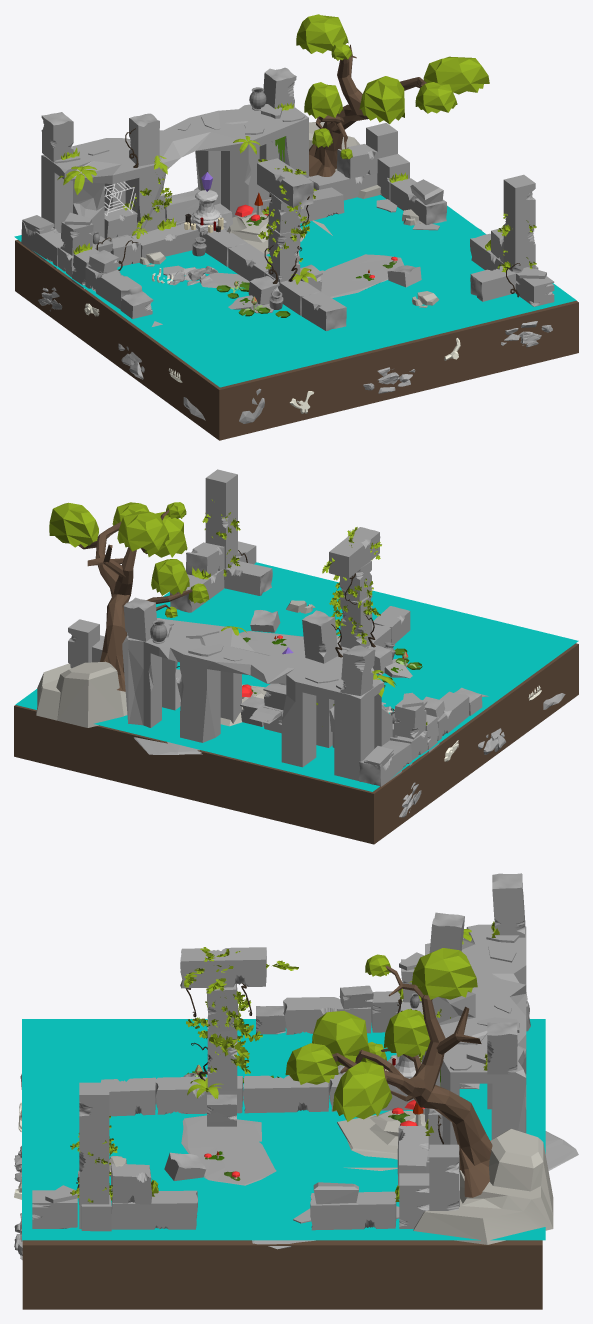
File: Full.fbx
The picture shows the model from 3 angles, top to bottom: view 1: azimuth 30°, elevation 25°; view 2: azimuth 150°, elevation 25°; view 3: azimuth 270°, elevation 25°; orthographic projection. The views are drawn at different scales.
Visible parts, largest first — view 1: LowPolyWaterv2, Cube, Prop_Ruins_Bridge_Stone_01, Prop_Ruins_Column_Square_Stone_02 (3), Vegetation_Tree_Trunk_05, Rock_Chunks_Large_01 (1), Prop_Ruins_Column_Square_Half_Stone_02 (9), Vegetation_Modular_Tree_Foliage_Clump_Draped_03 (1), Vegetation_Modular_Tree_Foliage_Clump_Draped_01, Vegetation_Modular_Tree_Foliage_Clump_Draped_03 (2), Prop_Ruins_Column_Square_Half_Stone_01 (12), Prop_Ruins_Column_Square_Half_Stone_02 (7) (+38 smaller); view 2: Cube, LowPolyWaterv2, Prop_Ruins_Bridge_Stone_01, Rock_Large_15, Vegetation_Tree_Trunk_05, Prop_Ruins_Column_Square_Stone_02 (3), Rock_Chunks_Large_01 (1), Vegetation_Modular_Tree_Foliage_Clump_Draped_03 (1), Prop_Ruins_Column_Square_Half_Stone_02 (9), Vegetation_Modular_Tree_Foliage_Clump_Draped_03 (2), Prop_Ruins_Column_Square_Half_Stone_02 (7), Prop_Ruins_Column_Square_Half_Stone_01 (27) (+17 smaller); view 3: LowPolyWaterv2, Cube, Prop_Ruins_Bridge_Stone_01, Rock_Large_15, Vegetation_Tree_Trunk_05, Rock_Chunks_Large_01 (1), Prop_Ruins_Column_Square_Stone_02 (3), Prop_Ruins_Column_Square_Half_Stone_02 (9), Prop_Ruins_Column_Square_Half_Stone_02 (1), Prop_Ruins_Column_Square_Half_Stone_02 (6), Prop_Ruins_Column_Square_Half_Stone_02 (4), Vegetation_Modular_Tree_Foliage_Clump_Draped_03 (1) (+27 smaller).
Part boxes in pixels (x1,y1,x2,y2): LowPolyWaterv2: (14, 195, 576, 387); Cube: (15, 240, 578, 440); Prop_Ruins_Bridge_Stone_01: (41, 104, 309, 237); Prop_Ruins_Column_Square_Stone_02 (3): (503, 174, 535, 293); Vegetation_Tree_Trunk_05: (309, 44, 426, 176); Rock_Chunks_Large_01 (1): (194, 187, 481, 298); Prop_Ruins_Column_Square_Half_Stone_02 (9): (257, 158, 313, 207); Vegetation_Modular_Tree_Foliage_Clump_Draped_03 (1): (423, 56, 489, 94); Vegetation_Modular_Tree_Foliage_Clump_Draped_01: (359, 76, 404, 124); Vegetation_Modular_Tree_Foliage_Clump_Draped_03 (2): (296, 14, 348, 53); Prop_Ruins_Column_Square_Half_Stone_01 (12): (131, 223, 199, 258); Prop_Ruins_Column_Square_Half_Stone_02 (7): (129, 113, 159, 166); Cube: (14, 643, 578, 844); LowPolyWaterv2: (15, 562, 578, 791); Prop_Ruins_Bridge_Stone_01: (122, 619, 392, 781); Rock_Large_15: (36, 661, 127, 727); Vegetation_Tree_Trunk_05: (78, 509, 192, 691); Prop_Ruins_Column_Square_Stone_02 (3): (205, 469, 237, 568); Rock_Chunks_Large_01 (1): (134, 631, 304, 754); Vegetation_Modular_Tree_Foliage_Clump_Draped_03 (1): (49, 502, 98, 547); Prop_Ruins_Column_Square_Half_Stone_02 (9): (329, 527, 380, 578); Vegetation_Modular_Tree_Foliage_Clump_Draped_03 (2): (117, 511, 169, 551); Prop_Ruins_Column_Square_Half_Stone_02 (7): (302, 610, 338, 663); Prop_Ruins_Column_Square_Half_Stone_01 (27): (340, 645, 375, 695); LowPolyWaterv2: (22, 1019, 545, 1240); Cube: (22, 1240, 542, 1309); Prop_Ruins_Bridge_Stone_01: (425, 924, 526, 1144); Rock_Large_15: (413, 1128, 553, 1244); Vegetation_Tree_Trunk_05: (332, 965, 492, 1197); Rock_Chunks_Large_01 (1): (181, 1115, 578, 1249); Prop_Ruins_Column_Square_Stone_02 (3): (79, 1082, 109, 1228); Prop_Ruins_Column_Square_Half_Stone_02 (9): (180, 947, 266, 988); Prop_Ruins_Column_Square_Half_Stone_02 (1): (243, 1075, 329, 1113); Prop_Ruins_Column_Square_Half_Stone_02 (6): (111, 1190, 198, 1229); Prop_Ruins_Column_Square_Half_Stone_02 (4): (310, 1191, 396, 1230); Vegetation_Modular_Tree_Foliage_Clump_Draped_03 (1): (332, 1061, 392, 1121).
Size of the model in its own units: 11.92 by 6.64 by 11.37.
